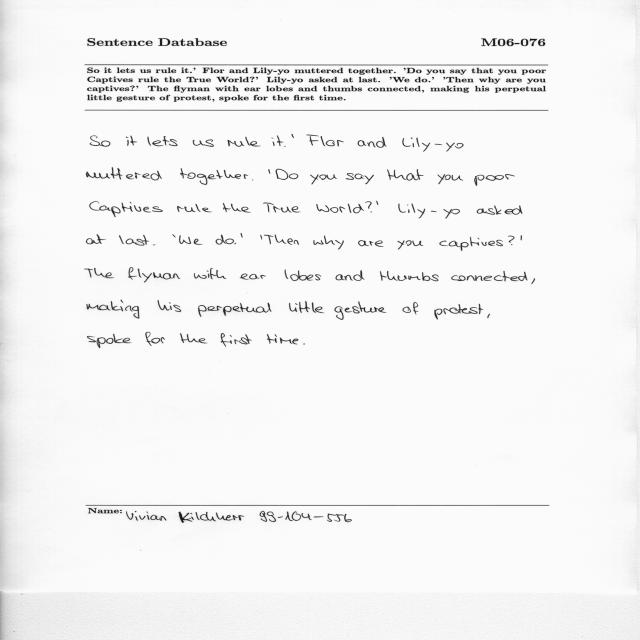word: (90, 201, 163, 217), (181, 168, 249, 185), (198, 303, 271, 317), (86, 168, 162, 181), (335, 301, 387, 320), (87, 300, 139, 318), (439, 237, 503, 251), (403, 138, 464, 152), (451, 271, 528, 282), (407, 204, 460, 219), (129, 268, 181, 283), (435, 304, 484, 319), (88, 334, 132, 348), (380, 271, 439, 281), (474, 174, 515, 186), (316, 204, 364, 214), (477, 205, 522, 215), (387, 169, 424, 181), (313, 236, 344, 250), (221, 333, 252, 347), (285, 269, 321, 281), (289, 301, 324, 313), (307, 135, 344, 146), (264, 234, 299, 245), (264, 203, 301, 213), (194, 268, 226, 279), (227, 137, 261, 147), (119, 235, 149, 246), (358, 137, 387, 148), (336, 270, 365, 281), (267, 334, 298, 344), (346, 173, 374, 184), (180, 333, 208, 344), (148, 136, 178, 146), (85, 268, 114, 278), (158, 300, 182, 312), (177, 204, 212, 212), (145, 332, 165, 346), (310, 175, 337, 185), (438, 174, 464, 184), (276, 169, 299, 180), (223, 203, 251, 212), (179, 235, 203, 245), (398, 241, 424, 250), (90, 136, 111, 147), (403, 302, 419, 314), (87, 234, 106, 244), (215, 235, 234, 245), (358, 240, 383, 247), (240, 274, 266, 280), (193, 140, 214, 147), (365, 201, 378, 212), (272, 136, 284, 147), (126, 135, 137, 146), (398, 204, 406, 213), (509, 236, 515, 245), (531, 278, 535, 284), (291, 134, 294, 138), (173, 234, 176, 238), (488, 314, 491, 318), (269, 169, 271, 174), (241, 233, 243, 238), (261, 235, 263, 240), (521, 236, 522, 241), (235, 243, 237, 245), (153, 245, 156, 246), (284, 146, 286, 147), (303, 344, 305, 345), (252, 180, 253, 180)
